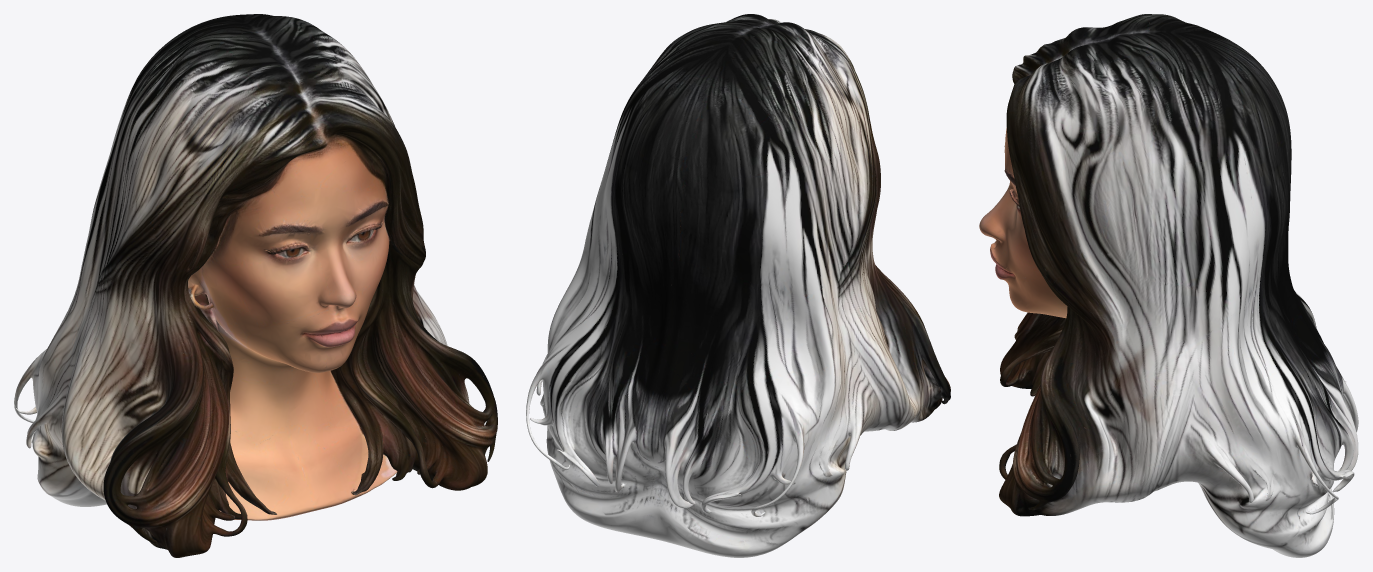
File: Nina.glb
3 renders of one model, left to right at view 1: azimuth 30°, elevation 25°; view 2: azimuth 150°, elevation 25°; view 3: azimuth 270°, elevation 25°, orthographic. The views are drawn at different scales.
Bounding box in the file's own units: 1.51 × 1.9 × 1.34.
1 material, 1 textured.
